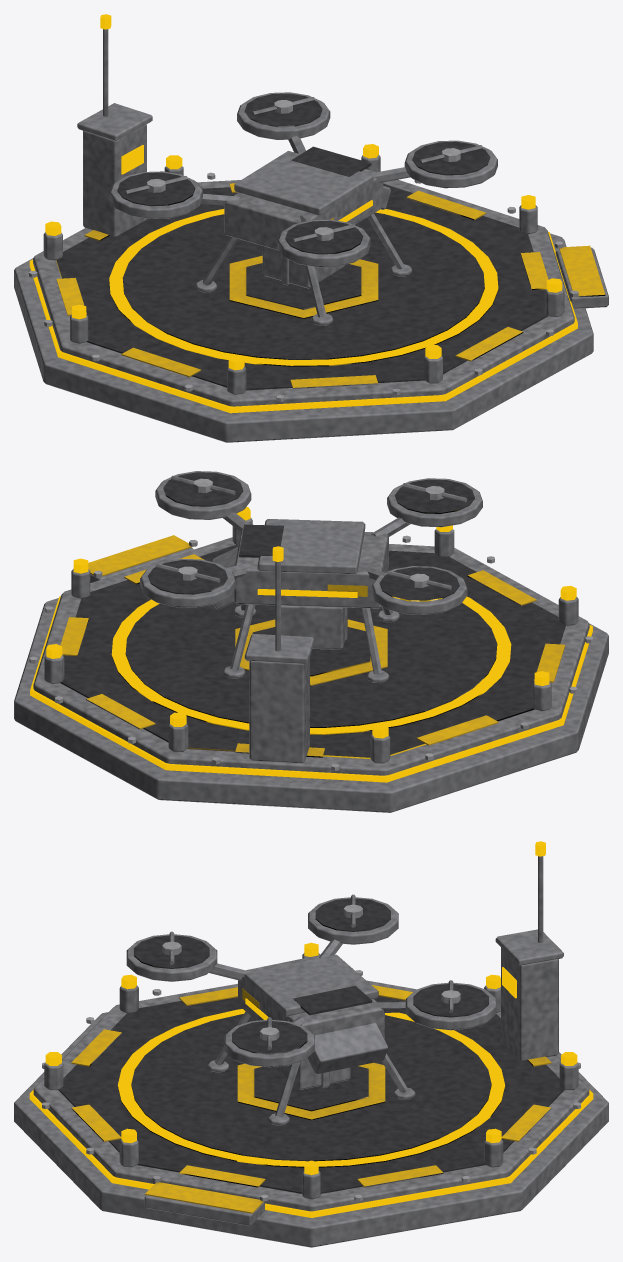
Rendered from nodexeus-pad.glb.
3 renders of one model, top to bottom at view 1: azimuth 30°, elevation 25°; view 2: azimuth 150°, elevation 25°; view 3: azimuth 270°, elevation 25°, orthographic. The views are drawn at different scales.
Parts seen in each view (by area): view 1: pad; view 2: pad; view 3: pad.
Part boxes in pixels (x1,y1,x2,y2): pad: (14, 14, 608, 442); pad: (14, 471, 608, 812); pad: (14, 841, 608, 1247).
Size of the model in its own units: 3.07 by 1.36 by 3.07.
1 material, 1 textured.
